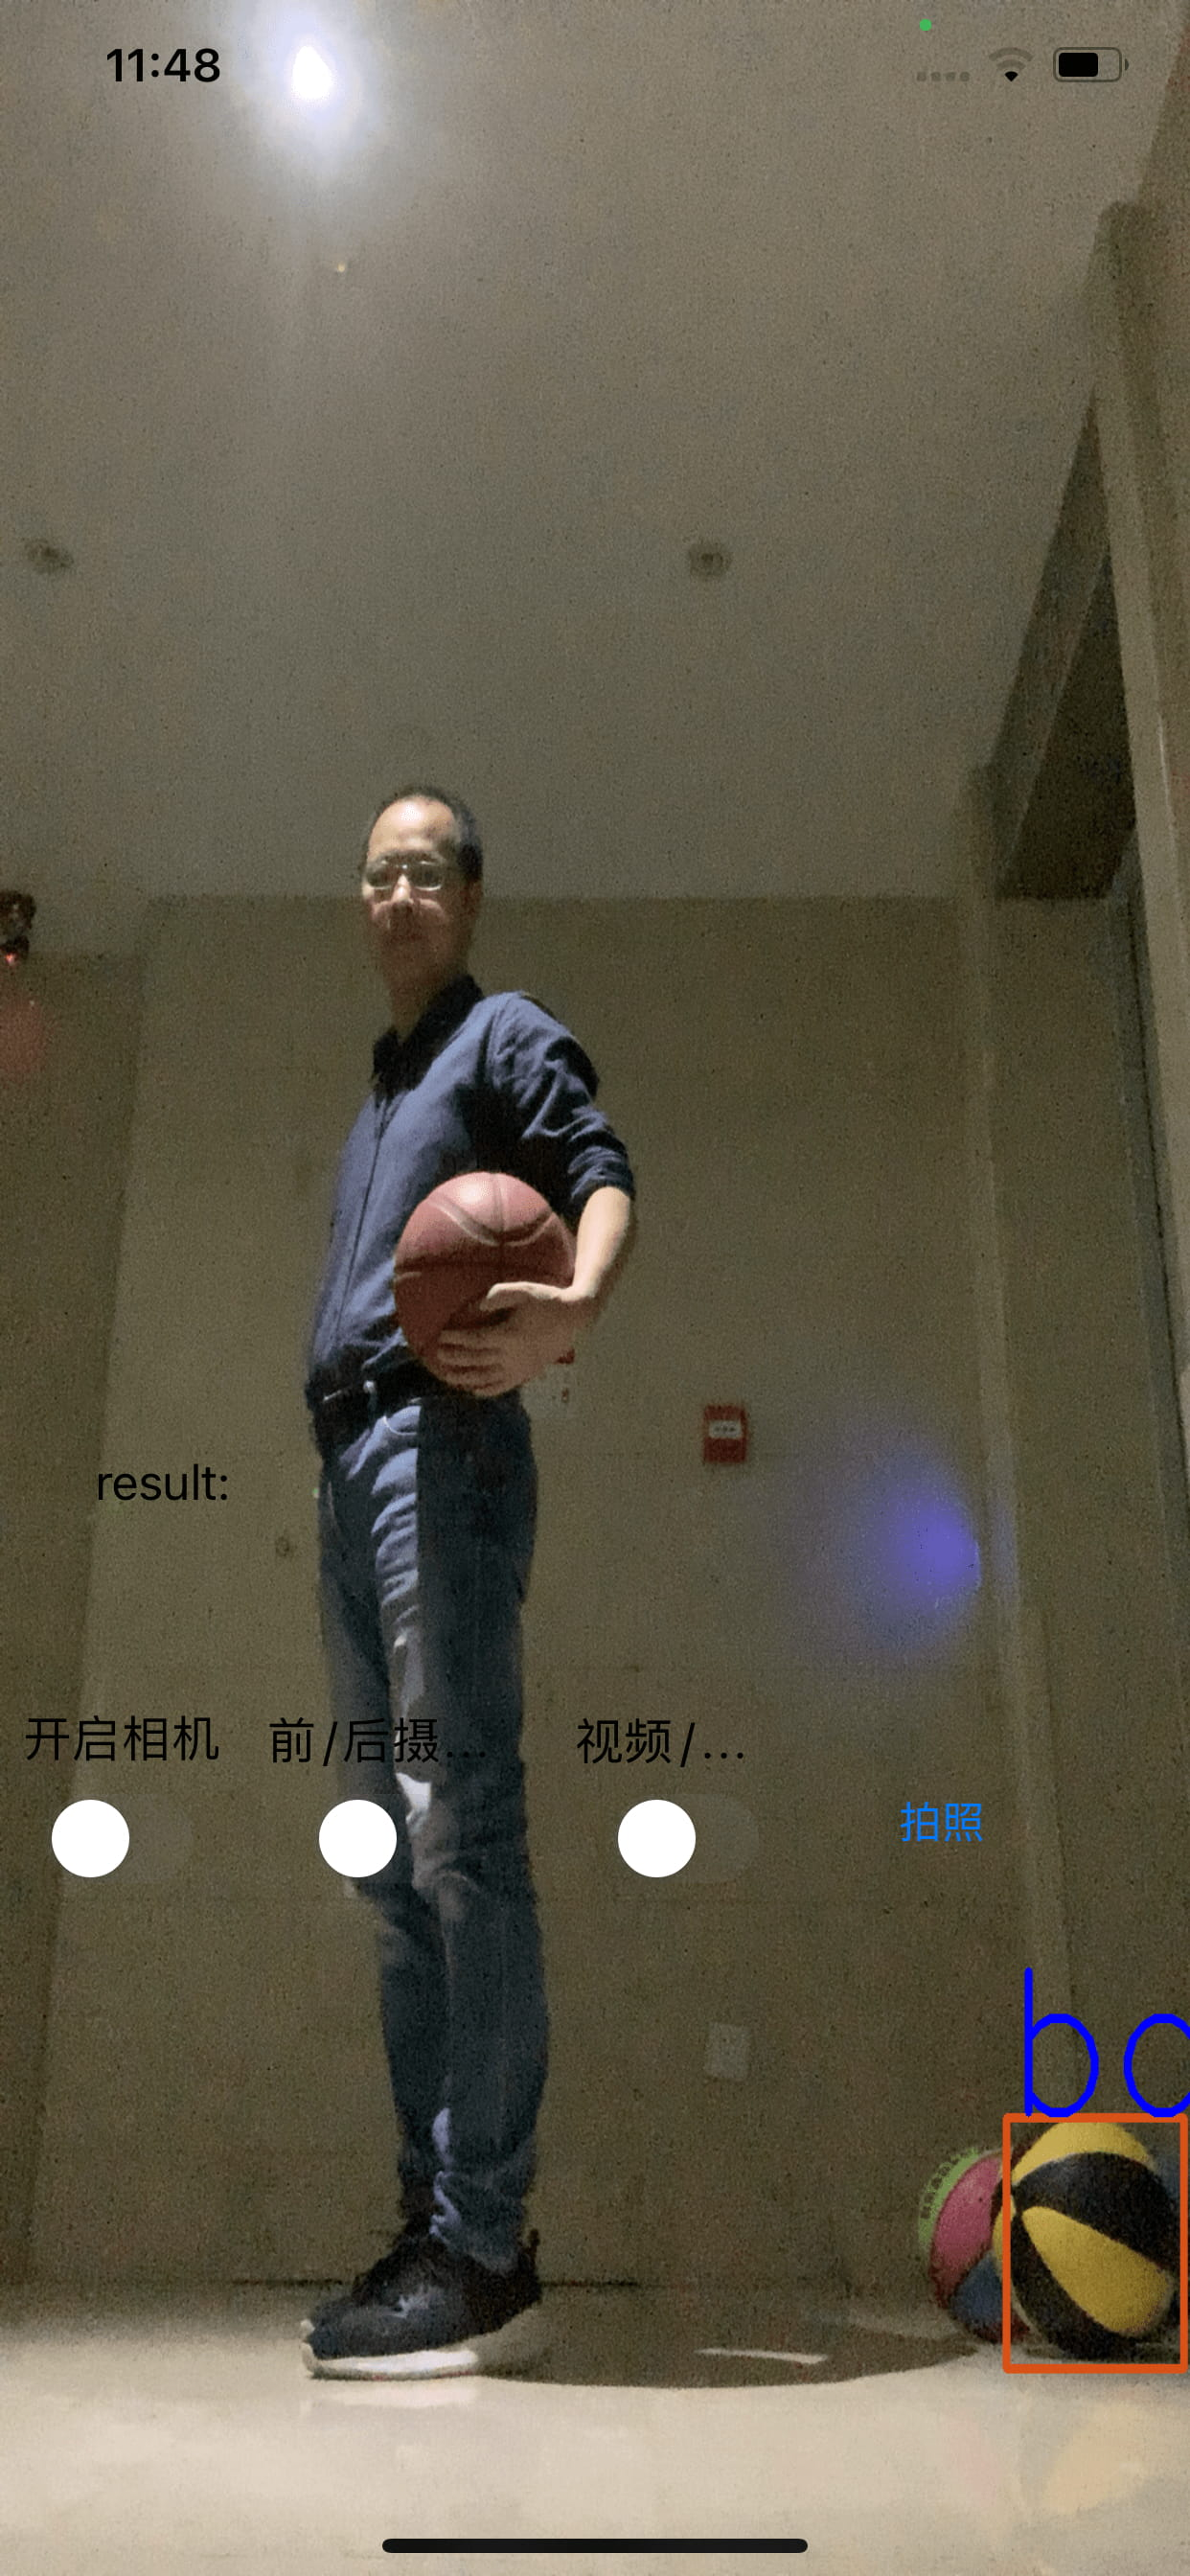ball: (994, 2126, 1180, 2361), (391, 1165, 575, 1400), (912, 2139, 1011, 2349)
